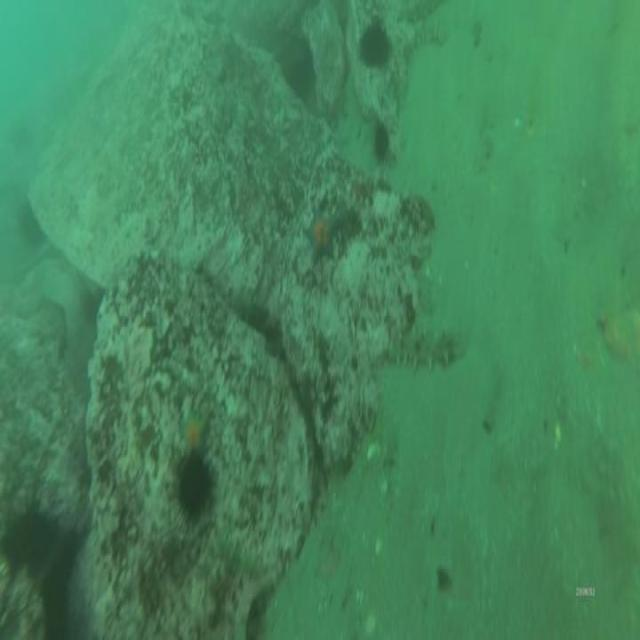echinus: (0, 490, 67, 583), (172, 452, 222, 525), (359, 22, 393, 71), (375, 116, 389, 164)
holothurian: (385, 318, 467, 370)
starfish: (303, 207, 341, 265), (178, 406, 212, 457)
